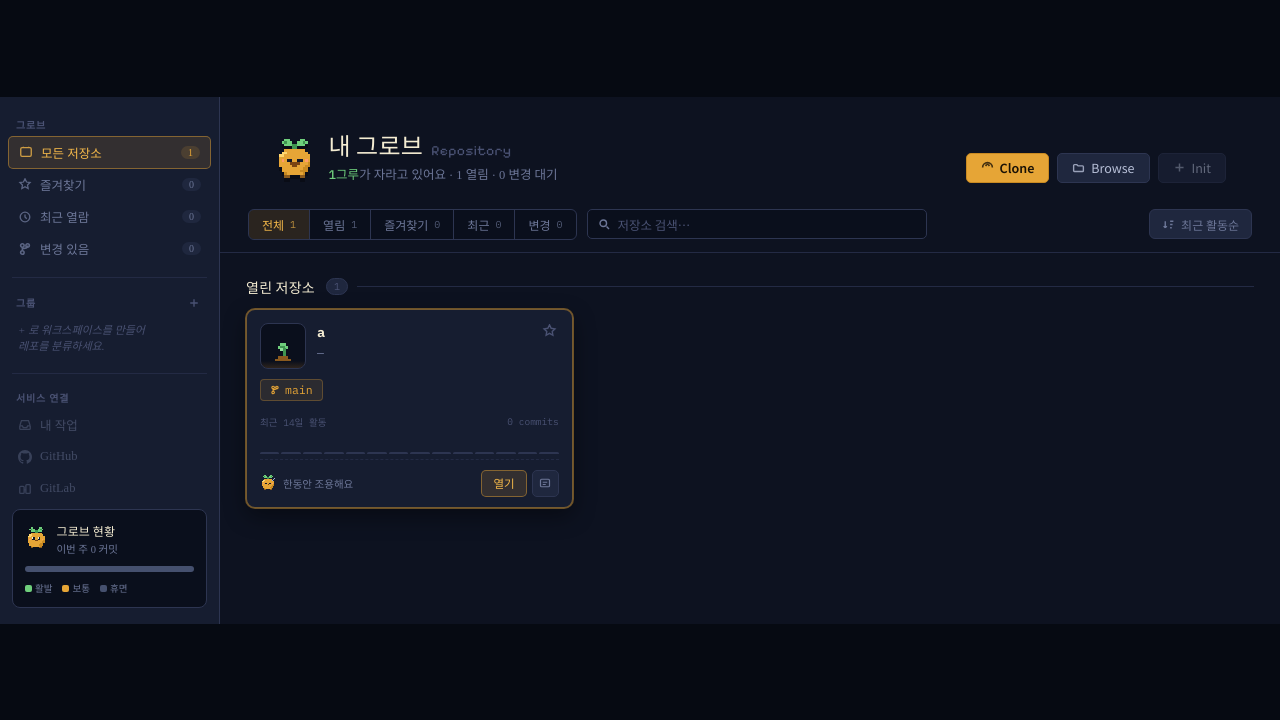
Test: RepoManager — 그로브 카드 그리드 (RM2~RM4) › 카드 ⋯(메뉴) 버튼 → 케밥 메뉴가 열린다(리포지토리로 이동 / 제거)
Step 1. Click the button named "메뉴" → (545, 483), box [532, 470, 559, 497]
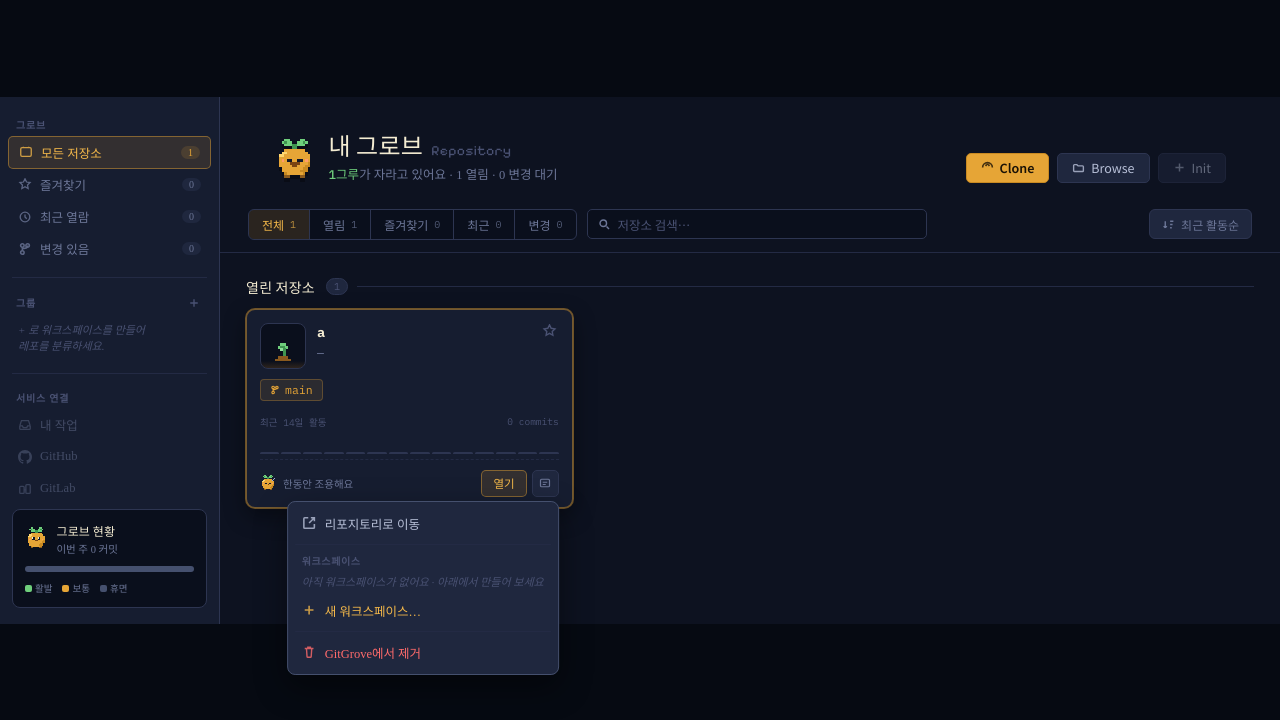
Check: the text "리포지토리로 이동" is shown, box [302, 516, 420, 532]
Check: the text "GitGrove에서 제거" is shown, box [302, 645, 421, 661]
